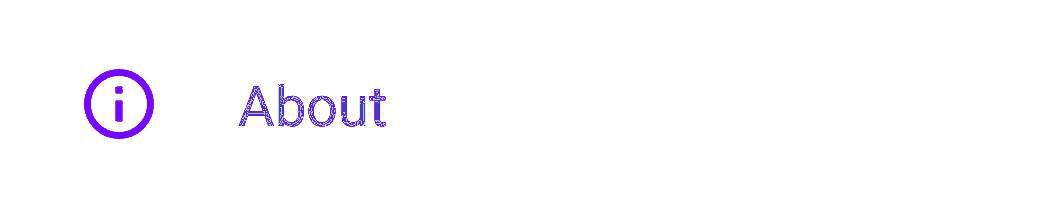CheckedTextView: (1, 1, 1046, 207)
